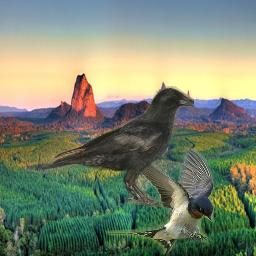Crow: (40, 86, 194, 207)
Swallow: (106, 141, 214, 256)
